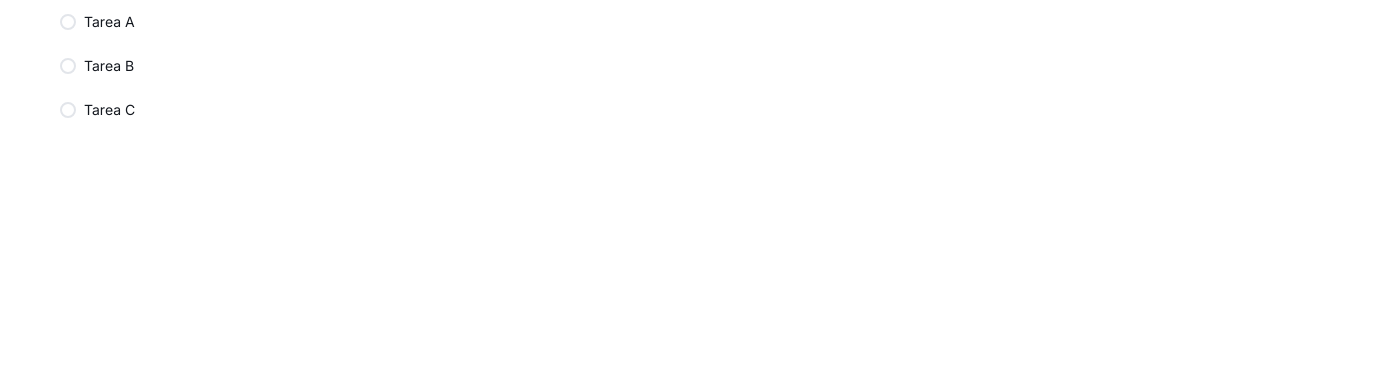
TaskRow — el menú de la fila señalada (bloque 4.4/4.5) › '.' abre el menú de acciones de la fila señalada
Focus the option "Tarea A" at [696, 22], box [56, 10, 1336, 34]
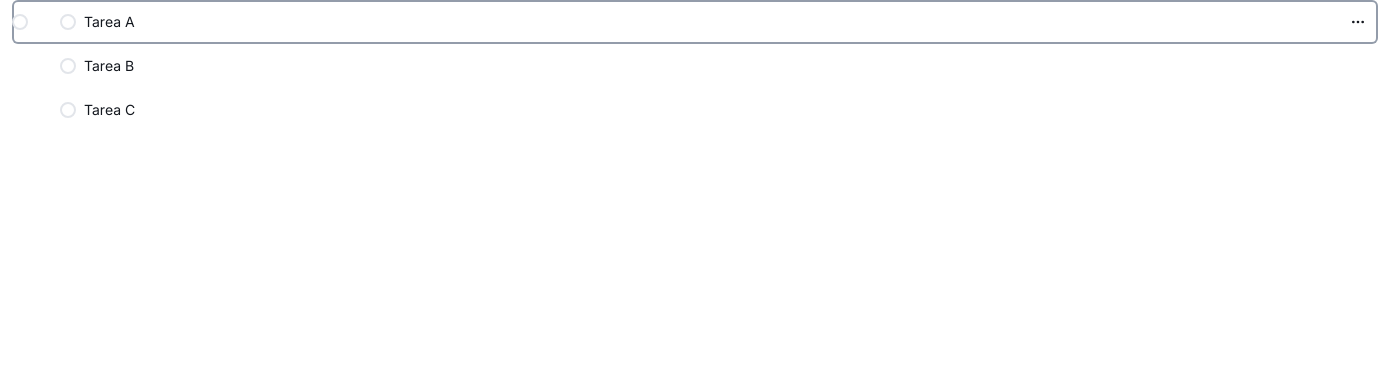
Press .
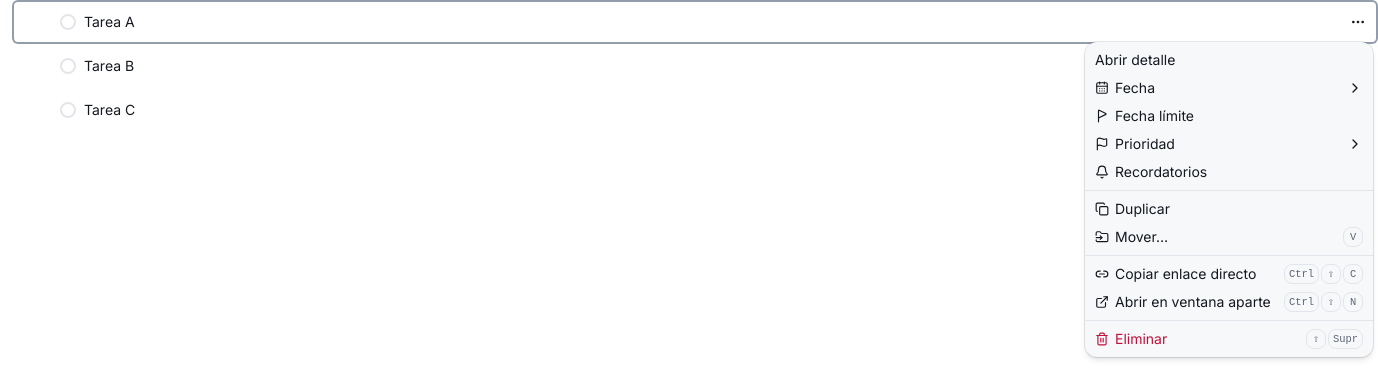
Expected: the menu item "Eliminar ⇧ Supr" is shown, [1089, 325, 1369, 353]
